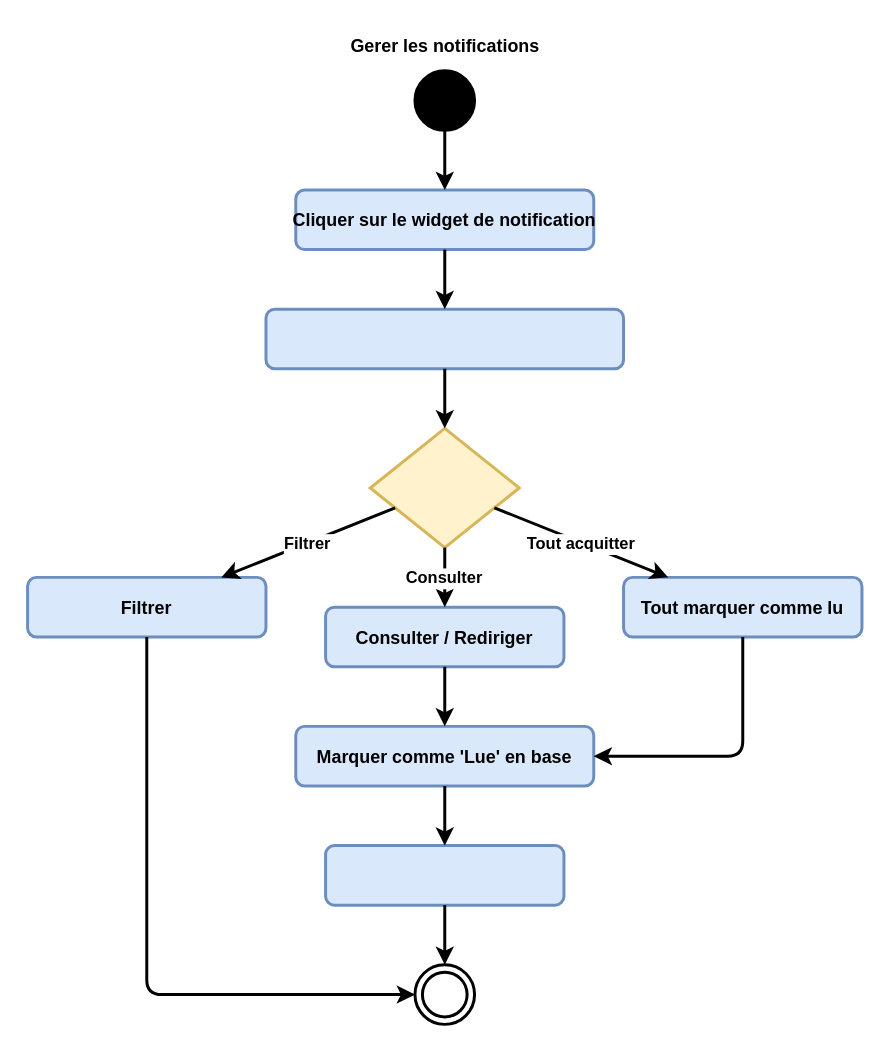
Some shapes in this 888 by 1050 pixel diagram are drawn without their labels. Here are the shapes that lost their labels. From the top down, the centre of each, then its label:
At [444,338]: "Afficher liste des notifications non lues".
At [444,487]: "Action ?".
At [444,874]: "MAJ du compteur".
